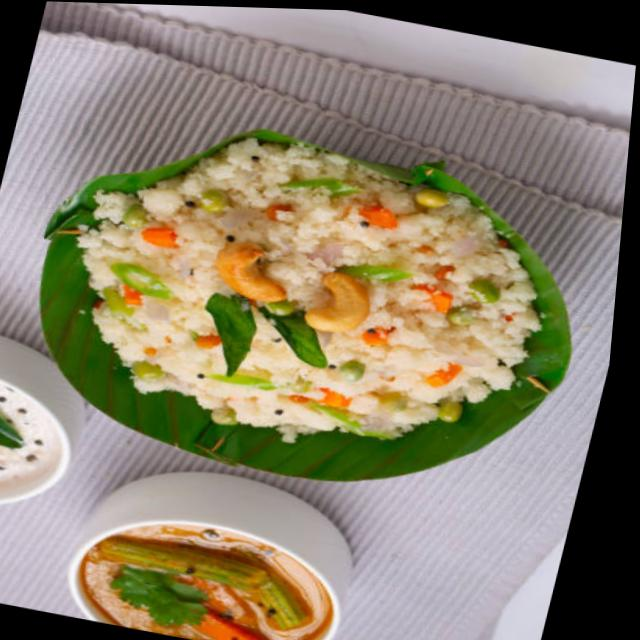SAMBAR: (54, 485, 390, 640)
WHITE CHUTNEY: (0, 364, 90, 498)
